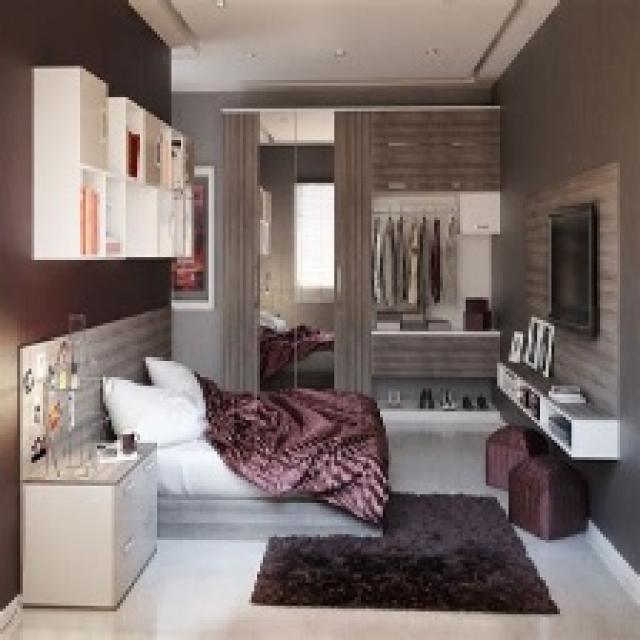Bed: (100, 366, 389, 534)
